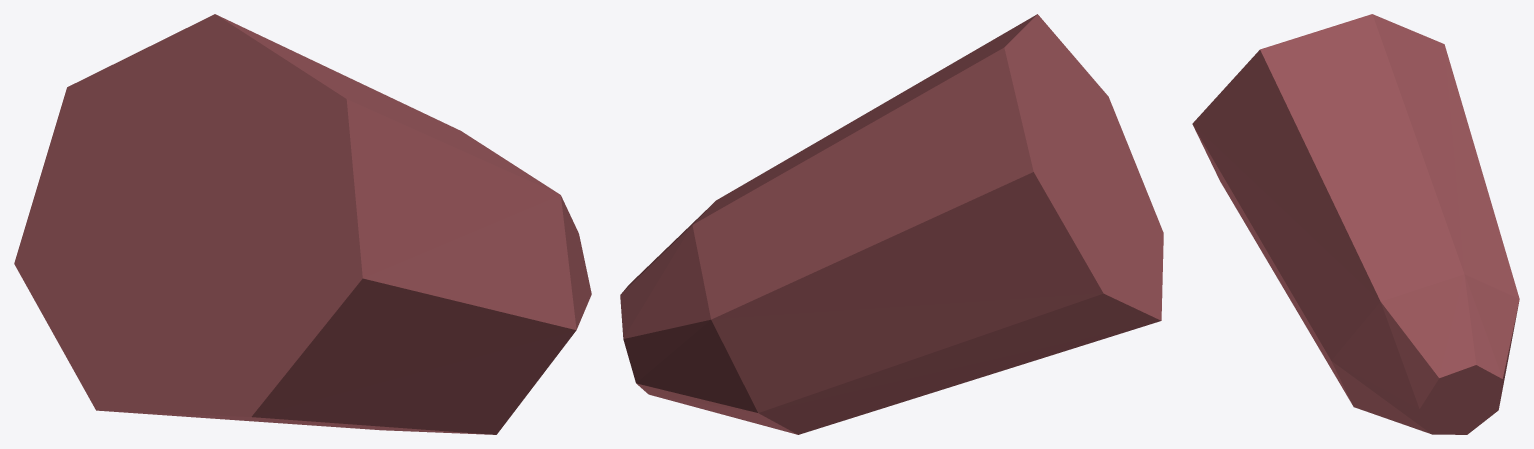
Rendered from trispike_skirt_0.obj.
3 views of the same model, side by side, from view 1: azimuth 30°, elevation 25°; view 2: azimuth 150°, elevation 25°; view 3: azimuth 270°, elevation 25° (orthographic). The views are drawn at different scales.
Visible parts, largest first — view 1: trispike_skirt_0; view 2: trispike_skirt_0; view 3: trispike_skirt_0.
Part boxes in pixels (box(x1,y1,x2,y2)): trispike_skirt_0: box(14, 14, 591, 434); trispike_skirt_0: box(620, 14, 1163, 434); trispike_skirt_0: box(1192, 14, 1519, 434).
Bounding box in the file's own units: 0.2337 × 0.1936 × 0.1768.
